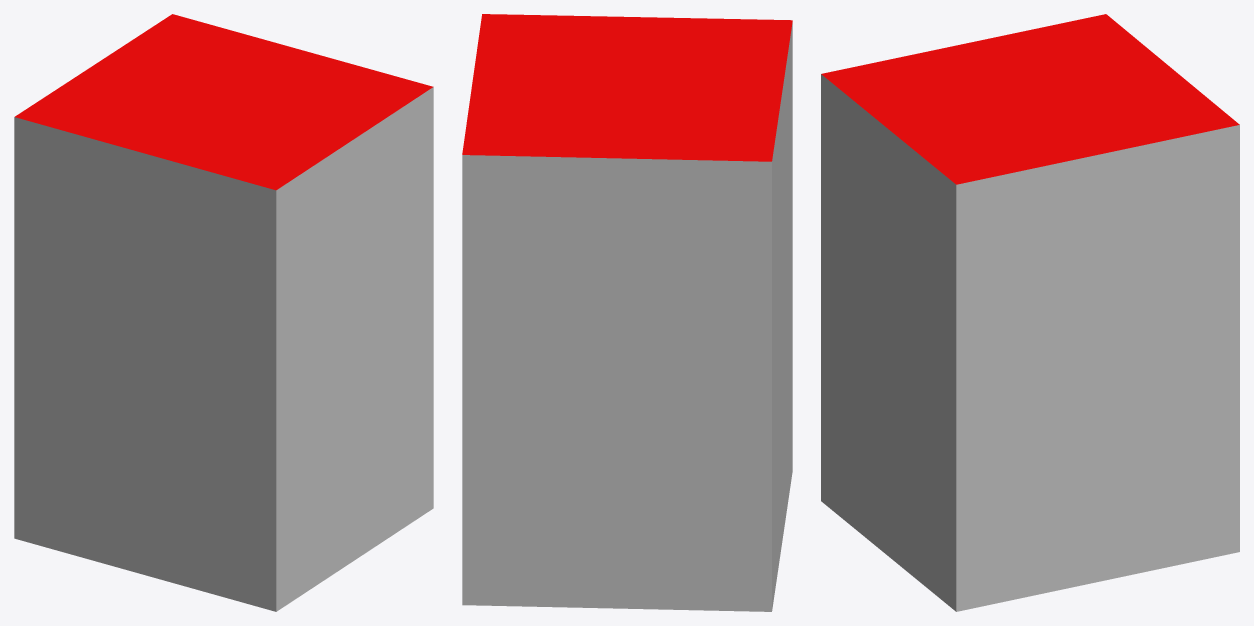
The picture shows the model from 3 angles, left to right: view 1: azimuth 30°, elevation 25°; view 2: azimuth 150°, elevation 25°; view 3: azimuth 270°, elevation 25°; orthographic projection. The views are drawn at different scales.
Bounding box in the file's own units: 5.14 × 6 × 5.33.
